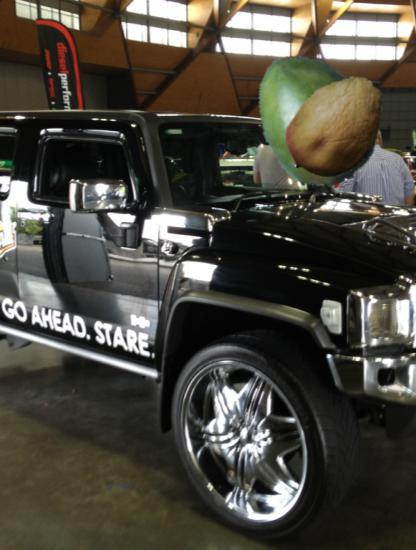Mango: (247, 49, 385, 187)
Papaya: (281, 70, 394, 183)
